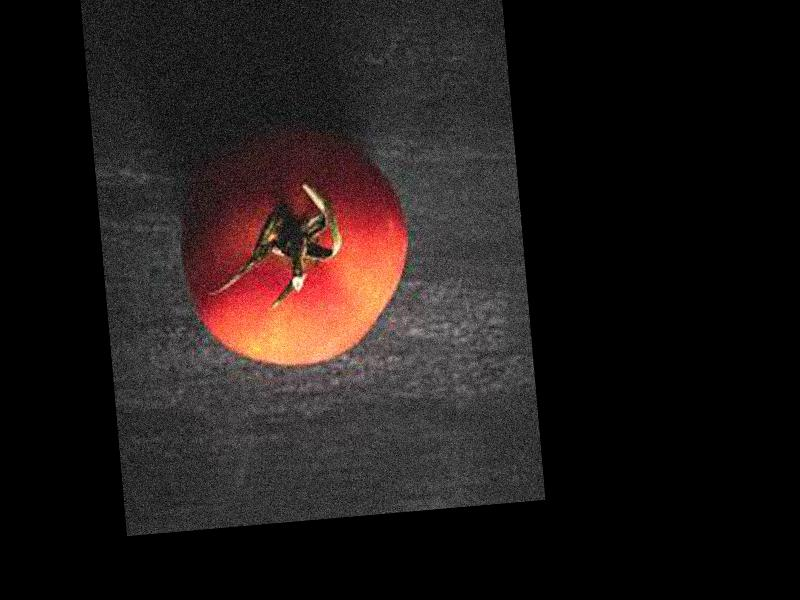Tomato: (175, 122, 417, 375)
